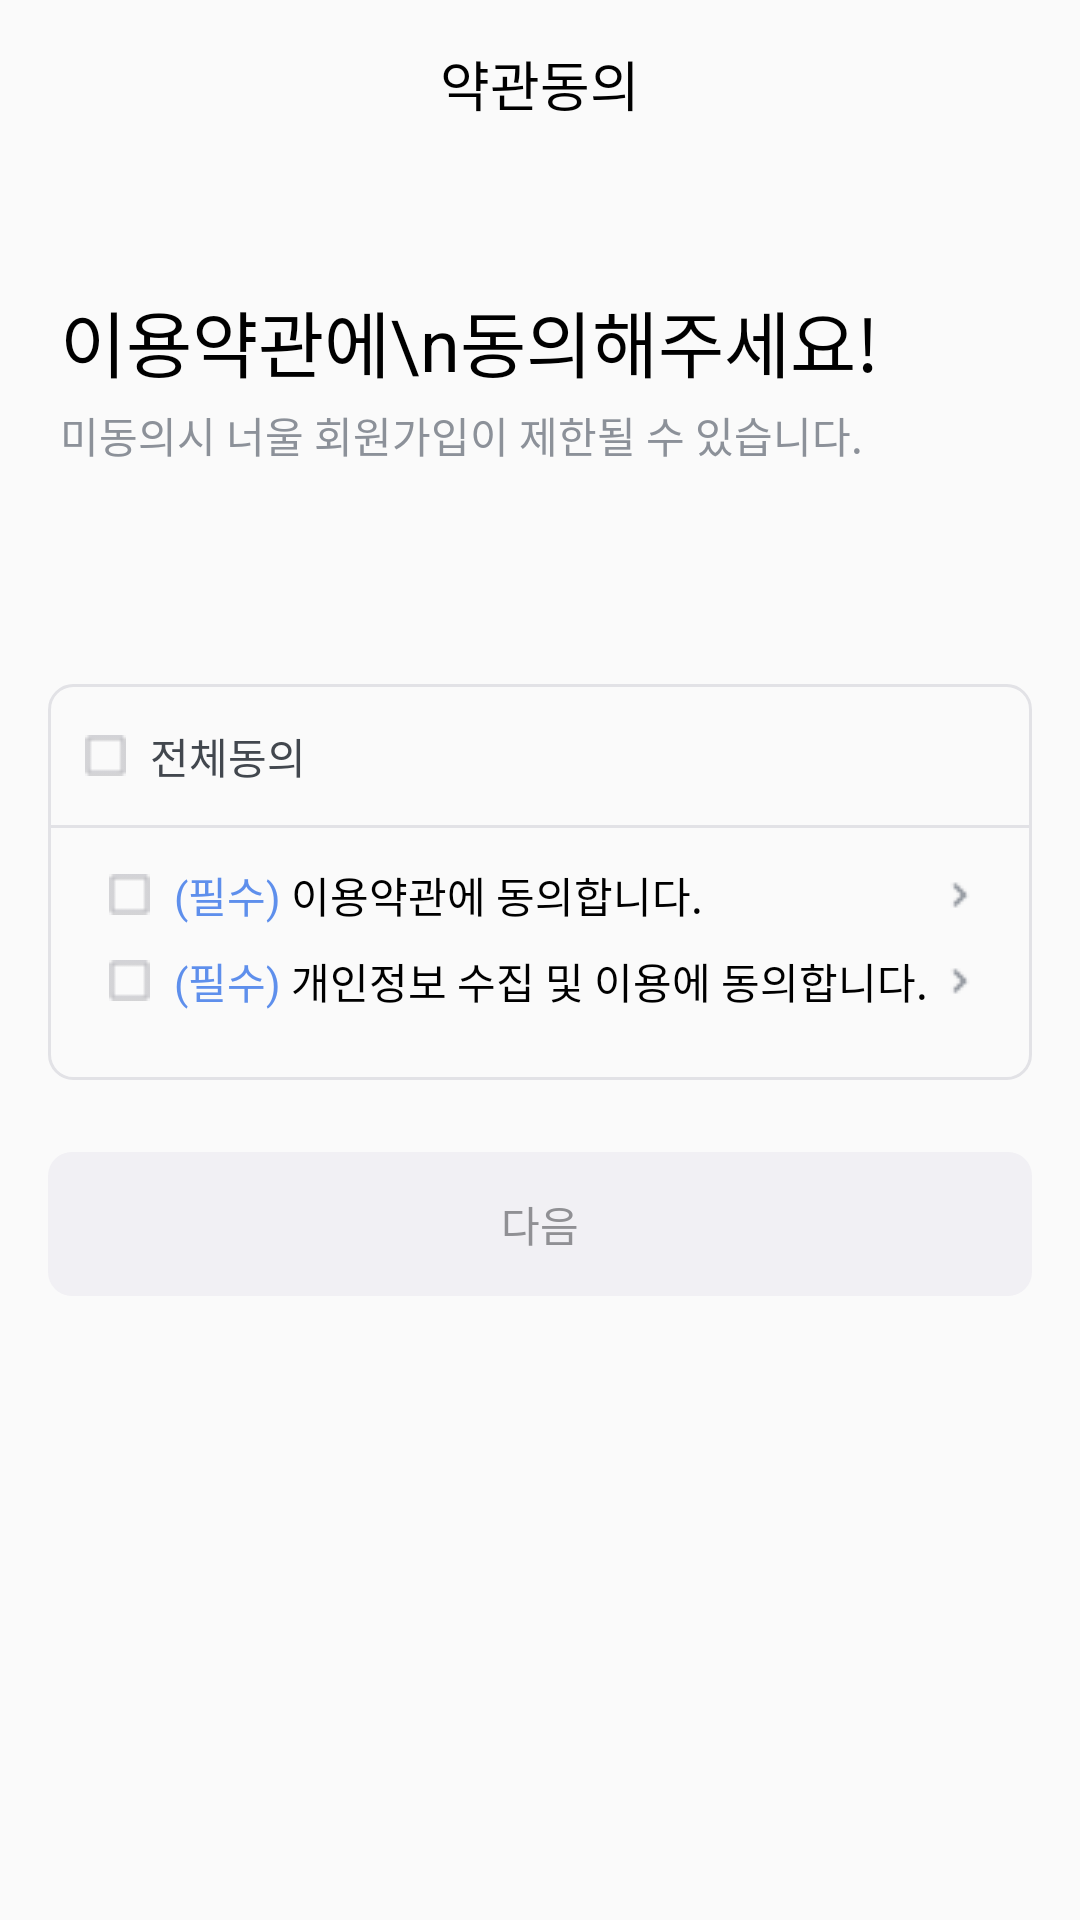

Screen size 1080px x 1920px. Icon name, then its box in pixels as (x1,y1,x2,y2):
login right: (953,882,967,908), (953,968,967,994)
